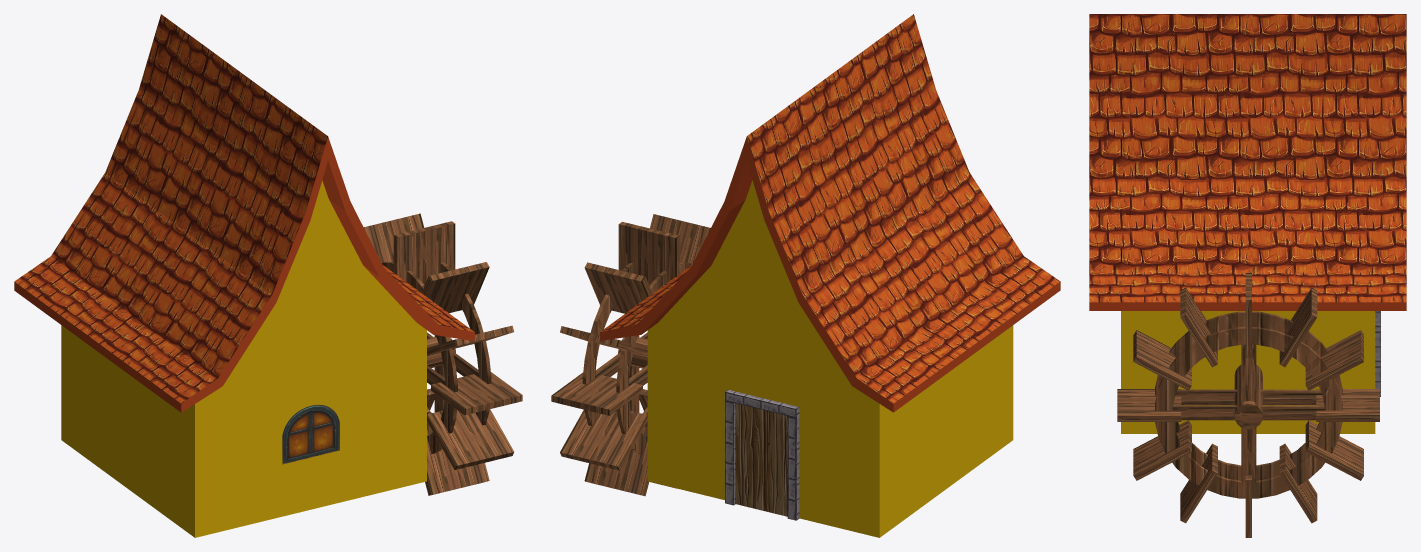
File: WaterMill.fbx
3 views of the same model, side by side, from view 1: azimuth 30°, elevation 25°; view 2: azimuth 150°, elevation 25°; view 3: azimuth 270°, elevation 25° (orthographic). The views are drawn at different scales.
Parts seen in each view (by area): view 1: Cube.012, Cube.013, Cube.005, Cube.009, Cube.006, Cube.008, Cylinder, Cube.004, Cylinder.003, Cube.010, Cube.007; view 2: Cube.012, Cube.013, Cube.011, Cube.014, Cube.009, Cube, Cube.010, Cylinder, Cube.002, Cylinder.003, Cube.008, Cube.001; view 3: Cube.012, Cube.013, Cylinder, Cylinder.003, Cube.006, Cube, Cube.014, Cube.005, Cube.007, Cube.001, Cube.010, Cube.008 (+6 smaller).
Boxes of the visible parts, x1,y1,x2,y2 form: Cube.012: (14,14,474,412); Cube.013: (61,180,426,537); Cube.005: (427,409,513,469); Cube.009: (393,221,455,284); Cube.006: (431,372,522,415); Cube.008: (421,262,489,313); Cylinder: (427,262,491,425); Cube.004: (425,426,489,495); Cylinder.003: (382,262,457,454); Cube.010: (364,213,424,262); Cube.007: (427,325,514,355); Cube.012: (600,14,1060,412); Cube.013: (647,180,1013,537); Cube.011: (725,389,799,520); Cube.014: (560,410,647,470); Cube.009: (618,221,680,285); Cube: (551,372,642,415); Cube.010: (584,262,652,313); Cylinder: (582,263,647,425); Cube.002: (584,427,648,496); Cylinder.003: (616,262,691,454); Cube.008: (650,214,710,264); Cube.001: (560,326,647,355); Cube.012: (1089,14,1406,310); Cube.013: (1121,311,1375,433); Cylinder: (1155,327,1342,498); Cylinder.003: (1155,311,1342,480); Cube.006: (1117,389,1181,421); Cube: (1316,389,1379,421); Cube.014: (1305,420,1363,480); Cube.005: (1133,420,1191,480); Cube.007: (1133,330,1191,390); Cube.001: (1305,330,1363,390); Cube.010: (1279,287,1317,367); Cube.008: (1180,287,1217,367).
Size of the model in its own units: 1226 by 1476 by 995.
